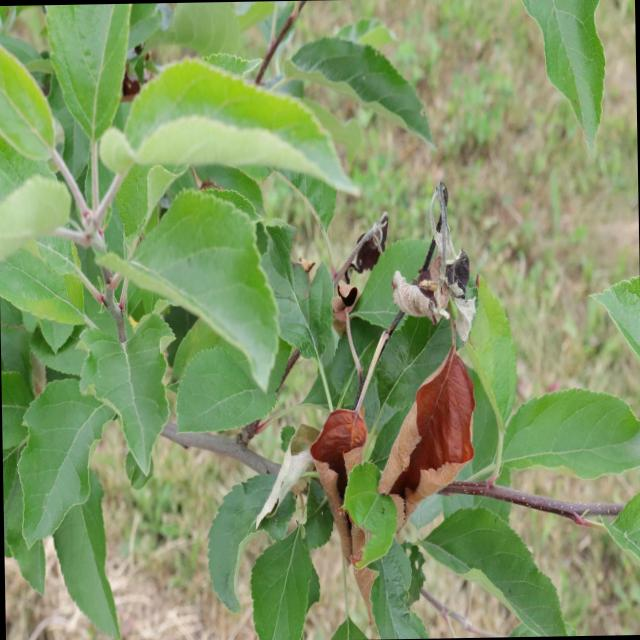-FireBlight-: (396, 188, 494, 502), (273, 404, 395, 576)
